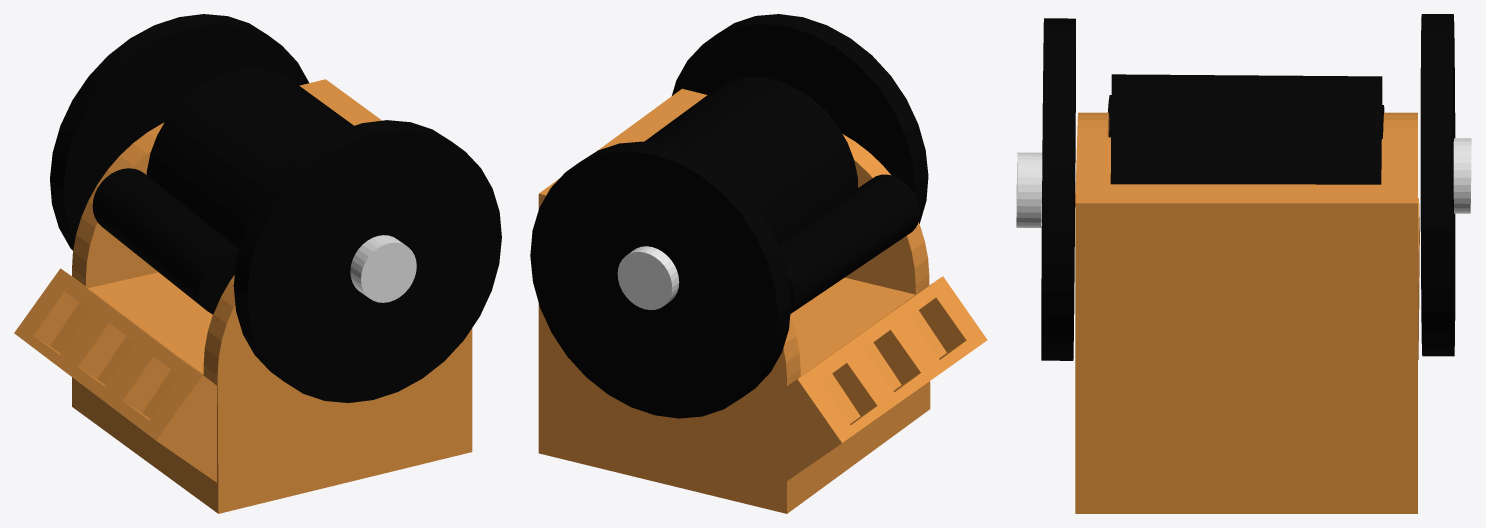
The model's file is electric ore crusher.glb.
3 views of the same model, side by side, from view 1: azimuth 30°, elevation 25°; view 2: azimuth 150°, elevation 25°; view 3: azimuth 270°, elevation 25° (orthographic). The views are drawn at different scales.
Visible parts, largest first — view 1: 円柱.004, 立方体, 円柱.002, 円柱, 立方体.001, 円柱.001, 円柱.006; view 2: 円柱.002, 立方体, 立方体.001, 円柱, 円柱.004, 円柱.001, 円柱.005; view 3: 立方体, 円柱, 円柱.002, 円柱.004, 円柱.006, 円柱.005.
Boxes of the visible parts, x1,y1,x2,y2 form: 円柱.004: (233, 120, 501, 402); 立方体: (72, 79, 472, 513); 円柱.002: (50, 14, 308, 250); 円柱: (146, 68, 353, 248); 立方体.001: (14, 268, 216, 482); 円柱.001: (92, 168, 238, 314); 円柱.006: (350, 235, 416, 302); 円柱.002: (530, 141, 791, 418); 立方体: (538, 88, 930, 513); 立方体.001: (743, 276, 987, 493); 円柱: (644, 77, 857, 242); 円柱.004: (672, 14, 928, 223); 円柱.001: (777, 174, 919, 313); 円柱.005: (617, 246, 679, 309); 立方体: (1075, 112, 1417, 513); 円柱: (1110, 74, 1382, 184); 円柱.002: (1420, 14, 1455, 356); 円柱.004: (1041, 18, 1075, 360); 円柱.006: (1016, 152, 1042, 227); 円柱.005: (1453, 138, 1471, 213).
Bounding box in the file's own units: 1.3 × 1.34 × 1.32.
